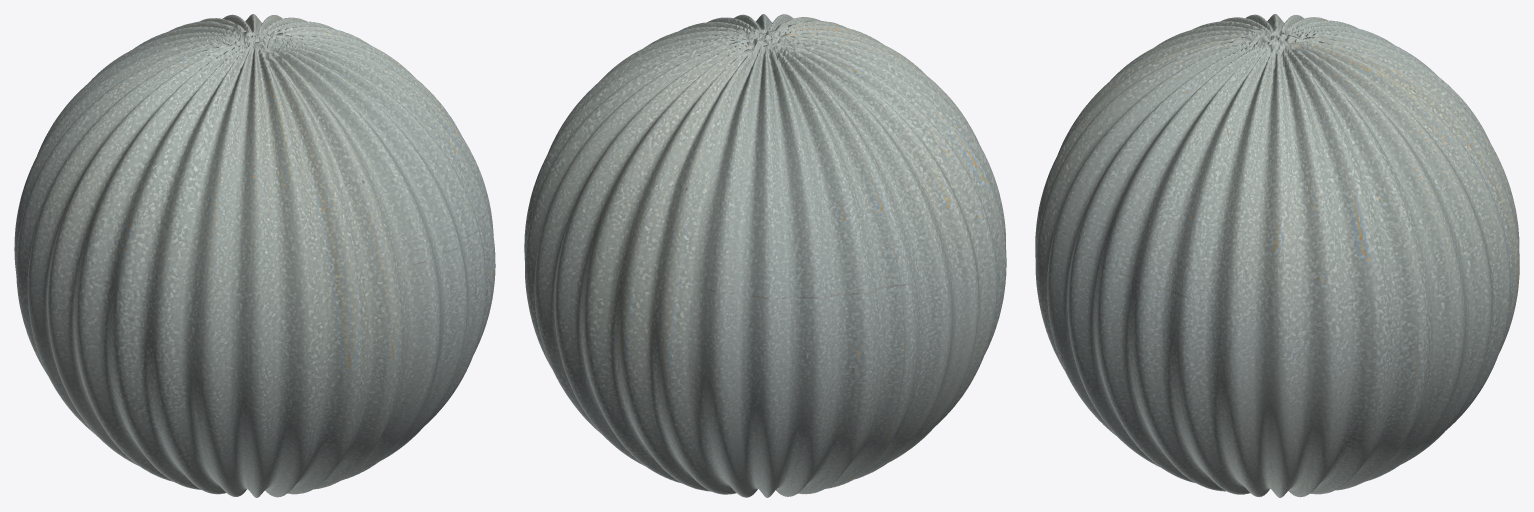
The model's file is corrugated_iron.glb.
3 renders of one model, left to right at view 1: azimuth 30°, elevation 25°; view 2: azimuth 150°, elevation 25°; view 3: azimuth 270°, elevation 25°, orthographic.
Visible parts, largest first — view 1: sphere_gltf; view 2: sphere_gltf; view 3: sphere_gltf.
Boxes of the visible parts, box(x1,y1,x2,y2) form: sphere_gltf: box(14, 14, 495, 497); sphere_gltf: box(524, 14, 1006, 497); sphere_gltf: box(1035, 14, 1519, 497).
Size of the model in its own units: 1.14 by 1.14 by 1.14.
1 material, 1 textured.
